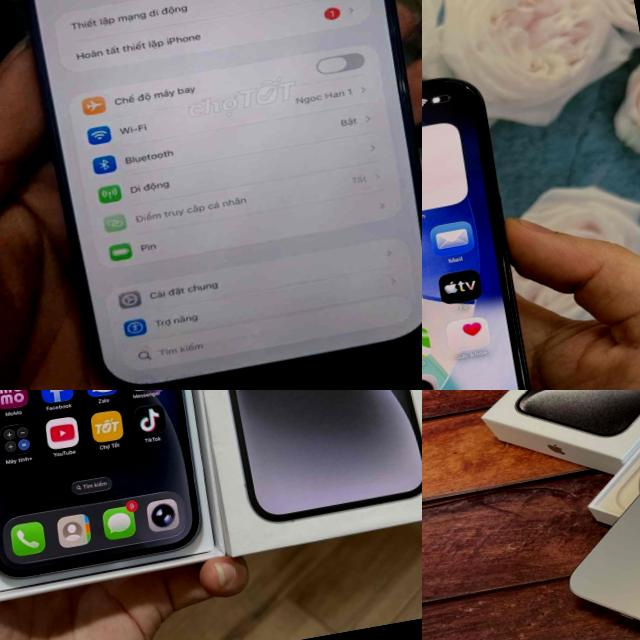gen_14: (422, 63, 564, 390), (0, 390, 217, 592)
gen_15: (538, 390, 640, 640)
gen_16: (27, 0, 422, 385)
